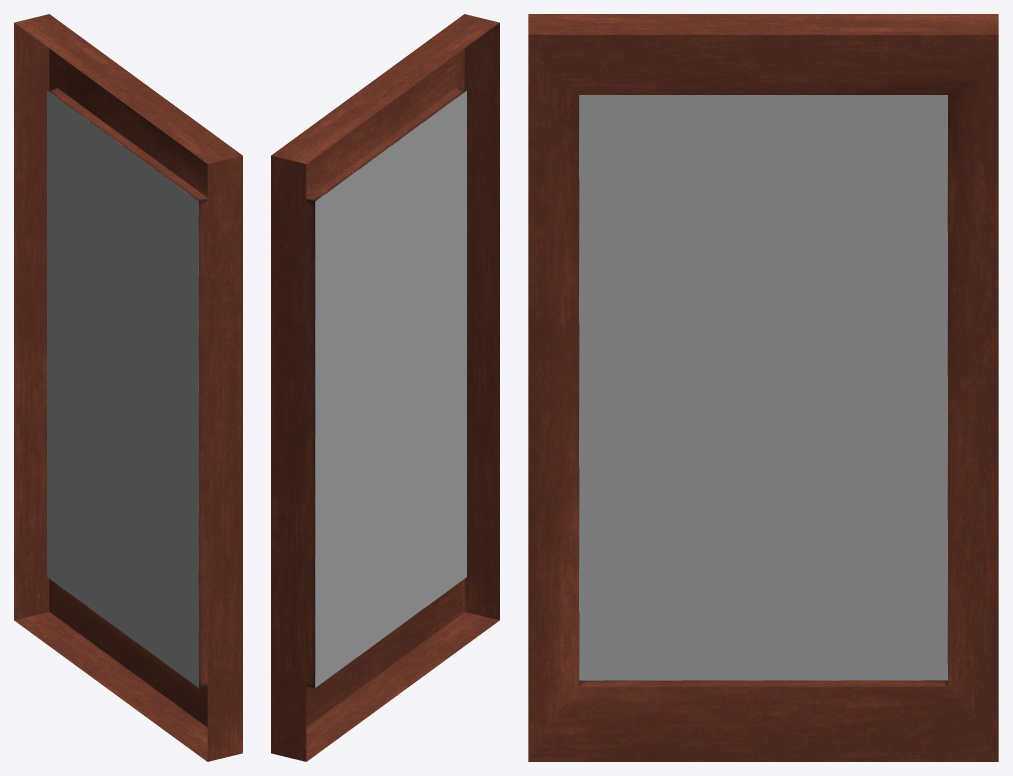
Rendered from SM_Mirror.fbx.
3 renders of one model, left to right at view 1: azimuth 30°, elevation 25°; view 2: azimuth 150°, elevation 25°; view 3: azimuth 270°, elevation 25°, orthographic. The views are drawn at different scales.
Parts seen in each view (by area): view 1: SM_Mirror; view 2: SM_Mirror; view 3: SM_Mirror.
Boxes of the visible parts, bbox=[...] form: SM_Mirror: bbox=[14, 14, 242, 761]; SM_Mirror: bbox=[271, 14, 499, 761]; SM_Mirror: bbox=[528, 14, 998, 761].
Bounding box in the file's own units: 6.17 × 58.52 × 99.8.
Materials: 1 (1 with a texture image).
